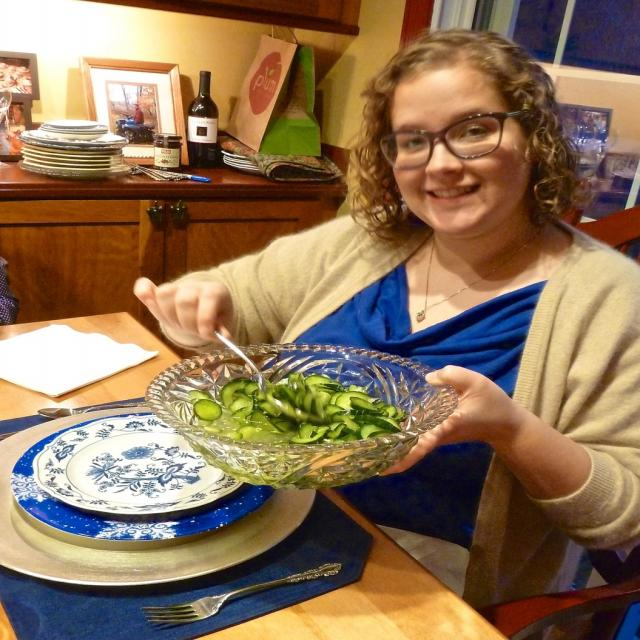non-organic waste: (13, 406, 379, 640)
